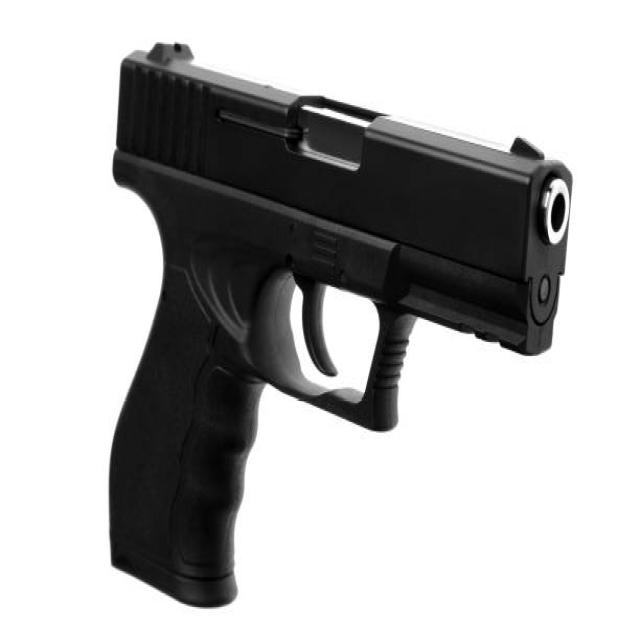pistol: (104, 31, 580, 615)
